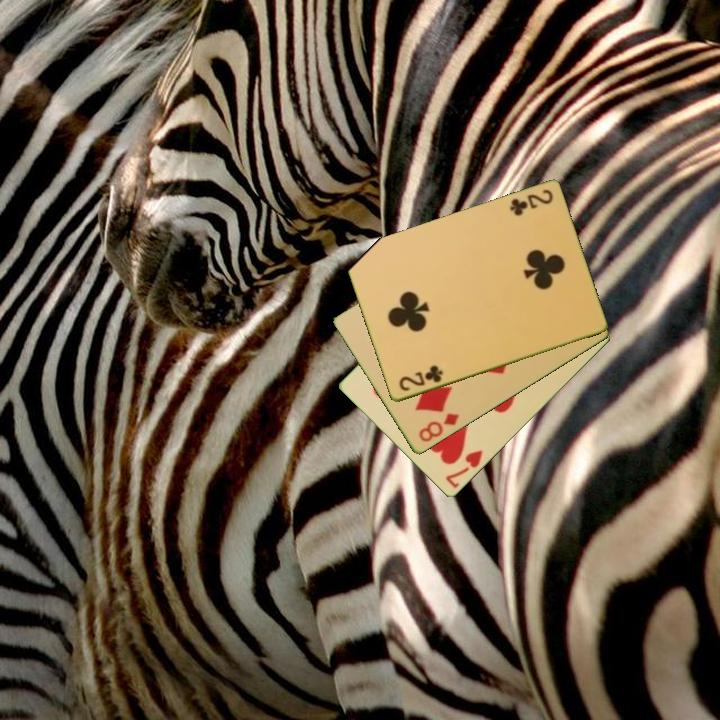2c: (395, 362, 446, 395), (506, 186, 556, 219)
7h: (442, 447, 486, 491)
8d: (415, 410, 462, 445)
